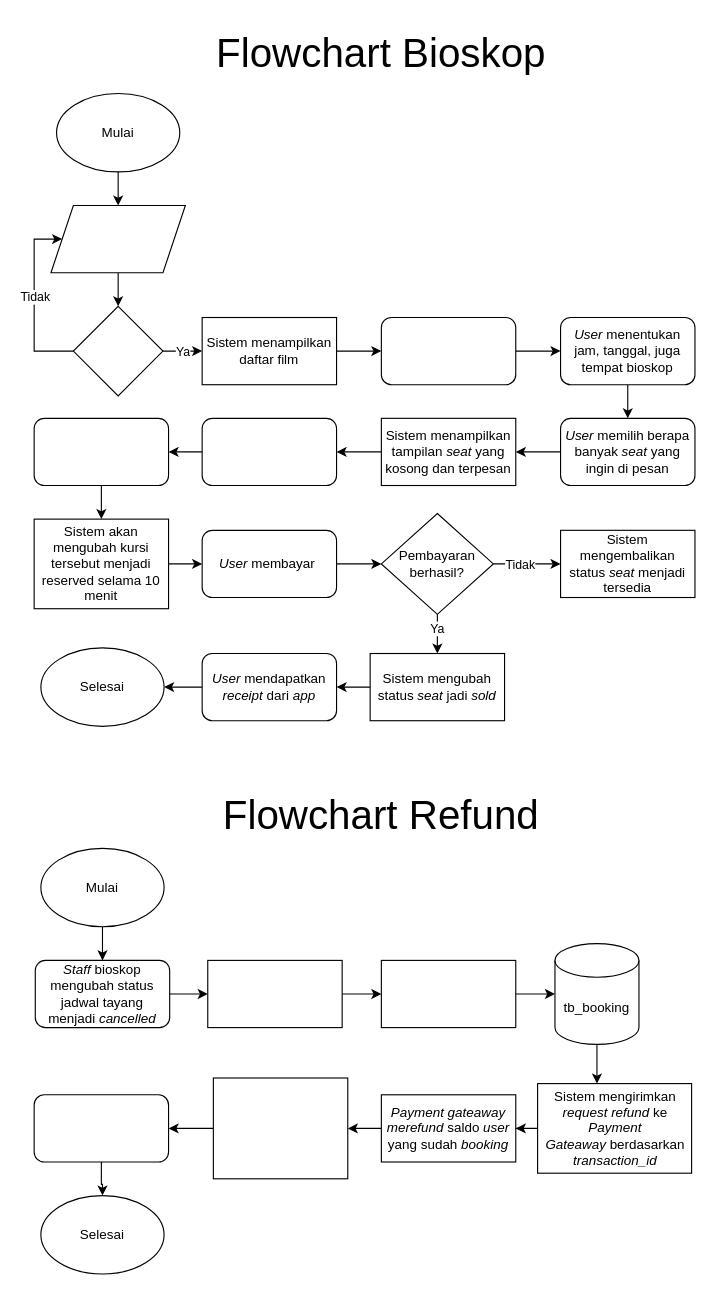
Image size: 715x1294. Some labels were removed from this diagram. The centre of each missing label's shape, as x and y in pixels:
Login App: the point at 117,238
Login Berhasil?: the point at 117,350
Sistem mencari data booking di jadwal tersebut: the point at 448,993
Sistem menghentikan semua penjualan tiket baru di jadwal tersebut: the point at 274,993
Sistem mengirimkan email sebagai notifikasi permintaan maaf dan receipt refund: the point at 280,1128
User konfirmasi pesanan: the point at 101,451
User memilih nomor seat sesuai informasi sistem: the point at 269,451
User mencari film yang ingin di tonton: the point at 448,350
User mendapatkan refund dan email: the point at 101,1128
